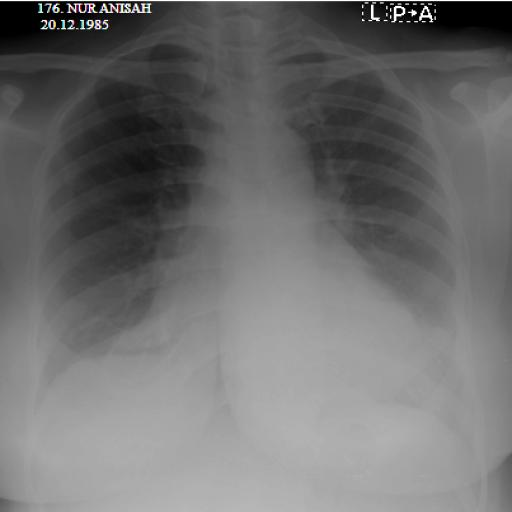kardiomegali: (10, 21, 498, 431)
